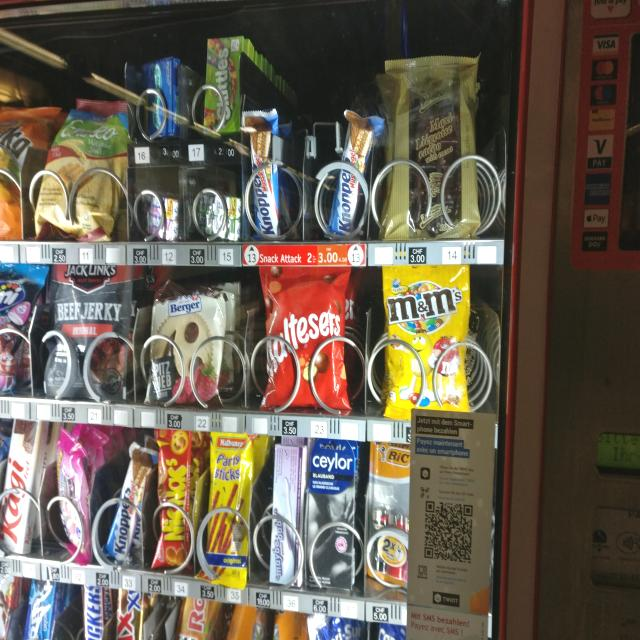airwaves_menthoneucalyptus_riegel_14_1_50173167: (138, 62, 182, 141)
fini_jellykisses_packung_80_1_8410525116704: (49, 425, 92, 557)
jacklinks_beefjerkyorginal__25__4047751730219: (44, 263, 133, 402)
jlbrichard_gauffre__90__5410495002000: (384, 59, 483, 236)
kagi___50__7610046000259: (0, 418, 42, 556)
knoppers_riegel____4035800488808: (324, 102, 373, 238), (100, 440, 146, 565), (243, 109, 283, 238)
lorenz_nicnacs__40__4018077798818: (153, 424, 198, 574)
malburner_partysticks__40__7610200279682: (206, 430, 252, 580)
maltesers___100__5000159023061: (255, 264, 352, 413)
mnms_gelb__45__40111445: (381, 263, 472, 422)
skittles_sour_riegel_51_1_0000000000004: (204, 35, 244, 135)
stimorol_spearmint_riegel_14_1_0000000000005: (194, 187, 240, 241)
stimorol_wildcherry_riegel_14_1_57060330: (141, 190, 177, 243)
zweifel_graneochilli__100__7610095184009: (39, 96, 124, 238)
